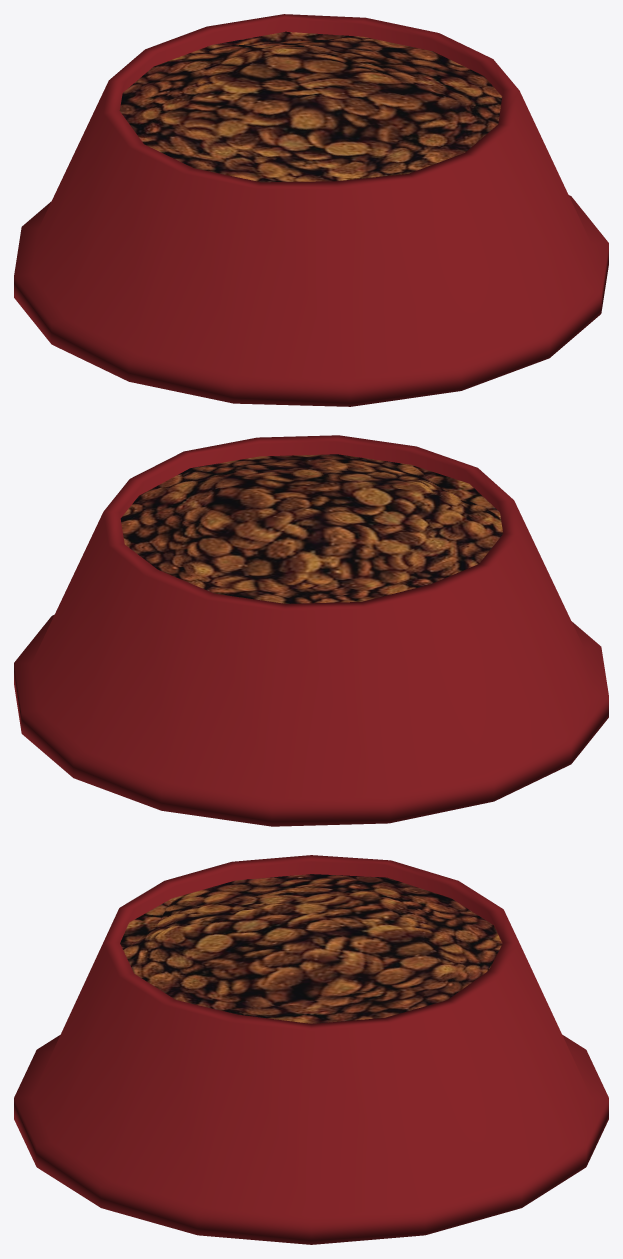
Rendered from Bait.fbx.
3 views of the same model, one above another, from view 1: azimuth 30°, elevation 25°; view 2: azimuth 150°, elevation 25°; view 3: azimuth 270°, elevation 25° (orthographic).
Parts seen in each view (by area): view 1: Bait; view 2: Bait; view 3: Bait.
Part boxes in pixels (x1,y1,x2,y2): Bait: (14,14,608,406); Bait: (14,435,608,826); Bait: (14,855,608,1244).
Size of the model in its own units: 31.94 by 10.66 by 31.94.
Materials: 1 (1 with a texture image).
